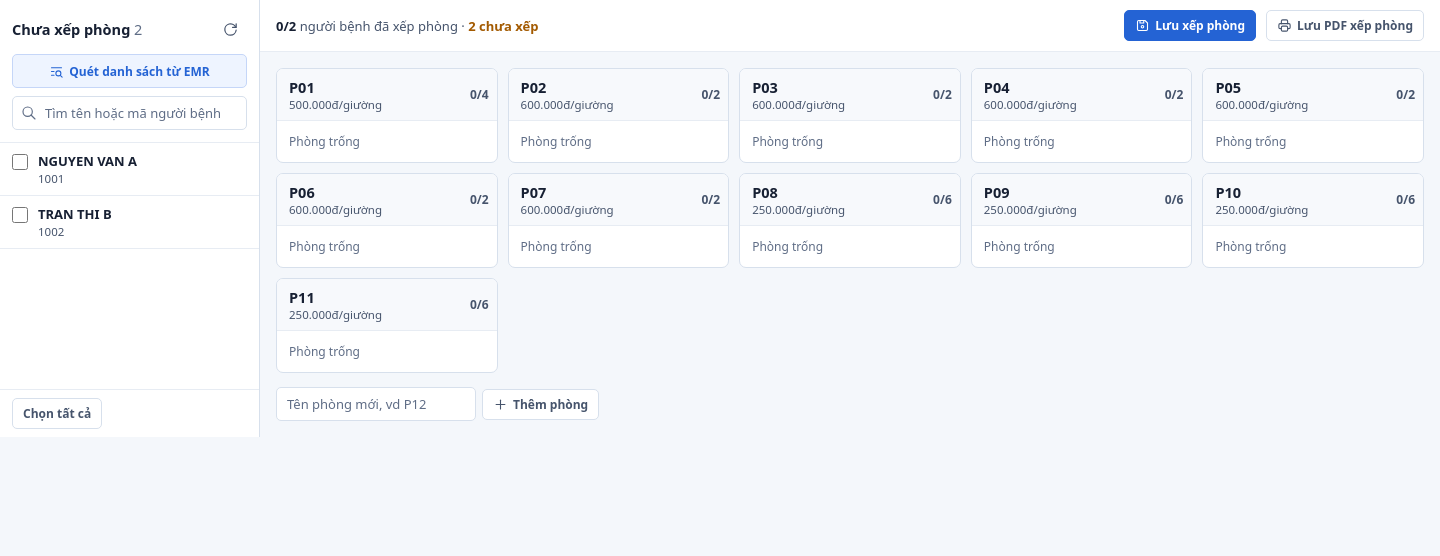
Test: Xếp phòng tự lưu › xếp người bệnh vào phòng → tự lưu sau giây lát, không cần bấm Lưu
Click the checkbox labelled "NGUYEN VAN A 1001": [20, 162] box [12,154,28,170]
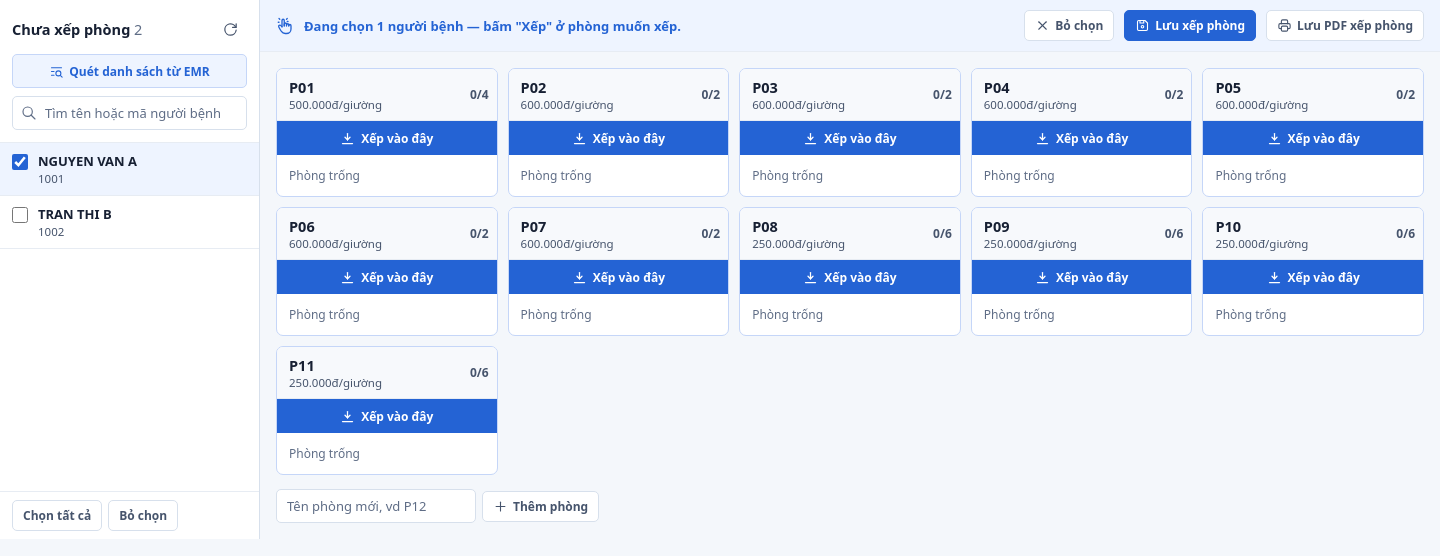
Click the button "Xếp vào đây" below "500.000đ": [387, 138] box [277,121,497,155]
Wait 900 ms
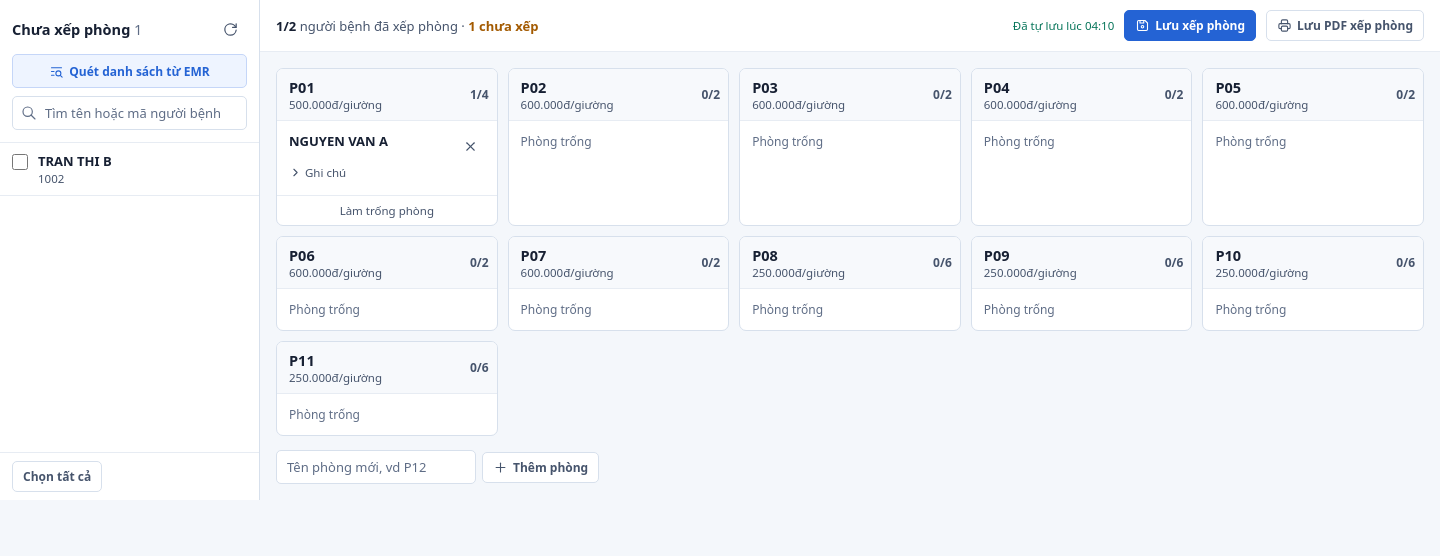
Check: the text "P01" is shown, box [289,77,315,97]
Check: the text "Đã tự lưu lúc" is shown, box [1013,18,1114,33]
